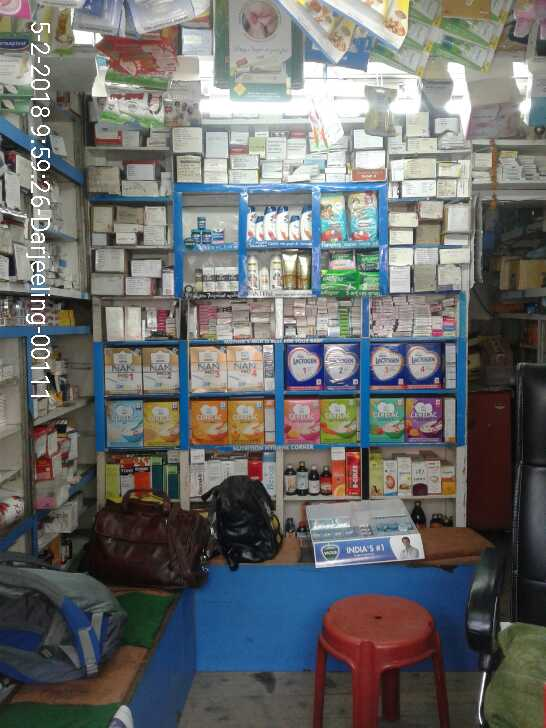vicks: (191, 216, 224, 248)
